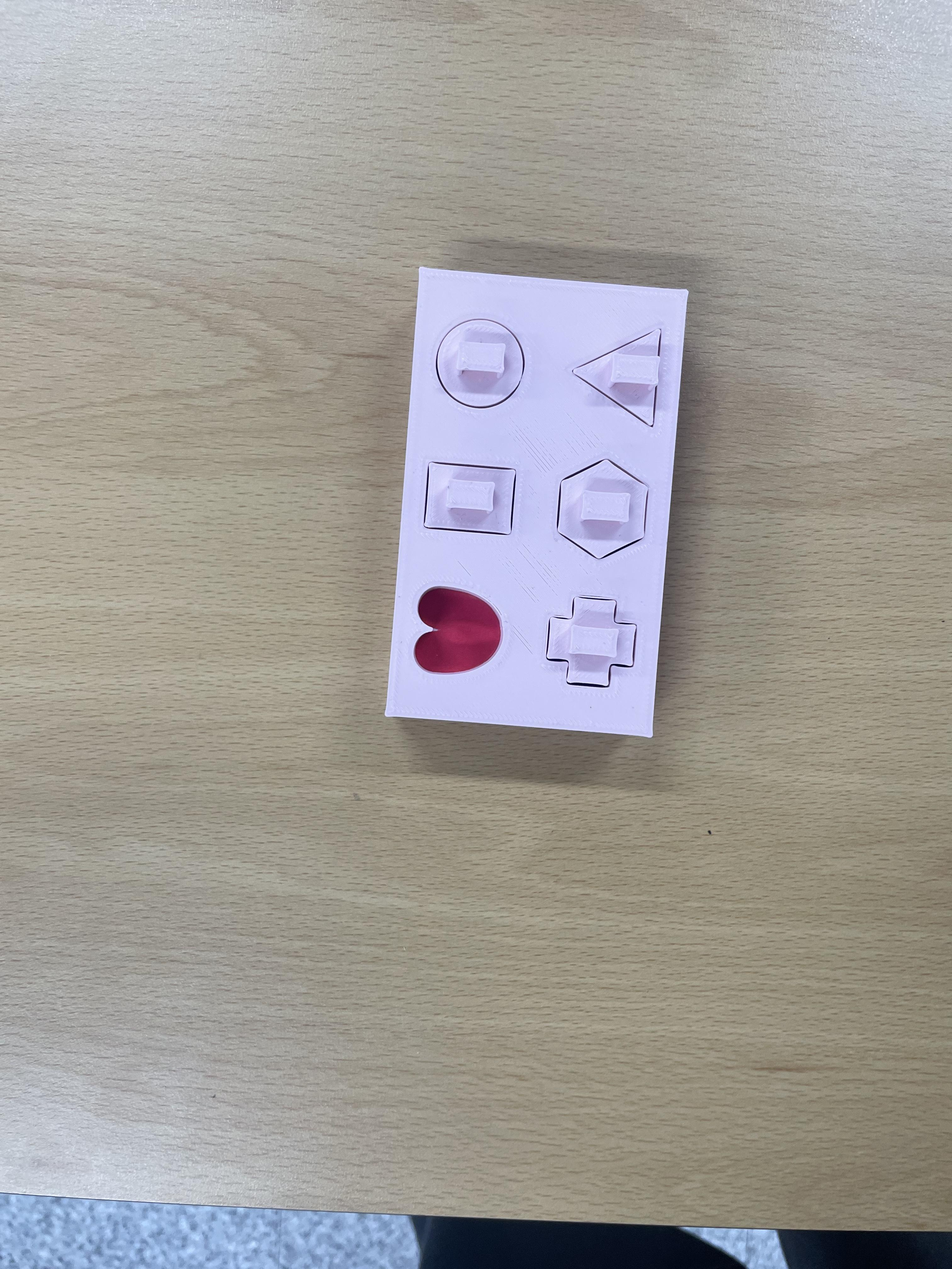unsolved: (371, 246, 697, 764)
